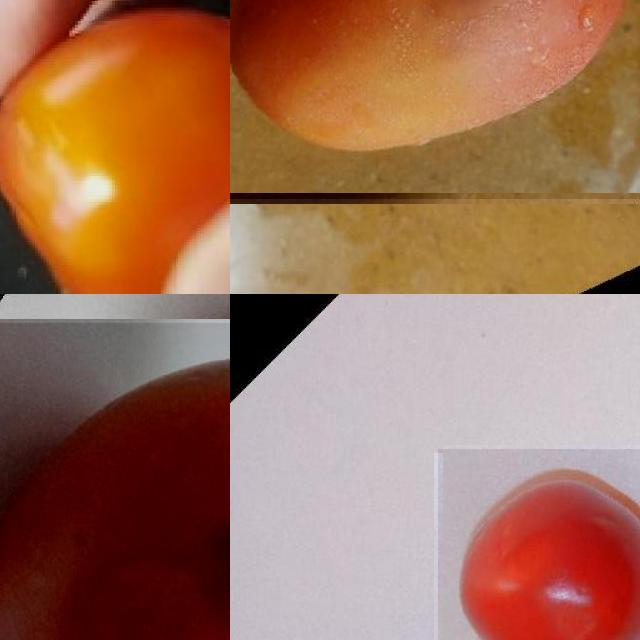1: (0, 322, 230, 640)
Fresh Tomato: (230, 0, 640, 198), (0, 0, 230, 294), (437, 449, 640, 640)
